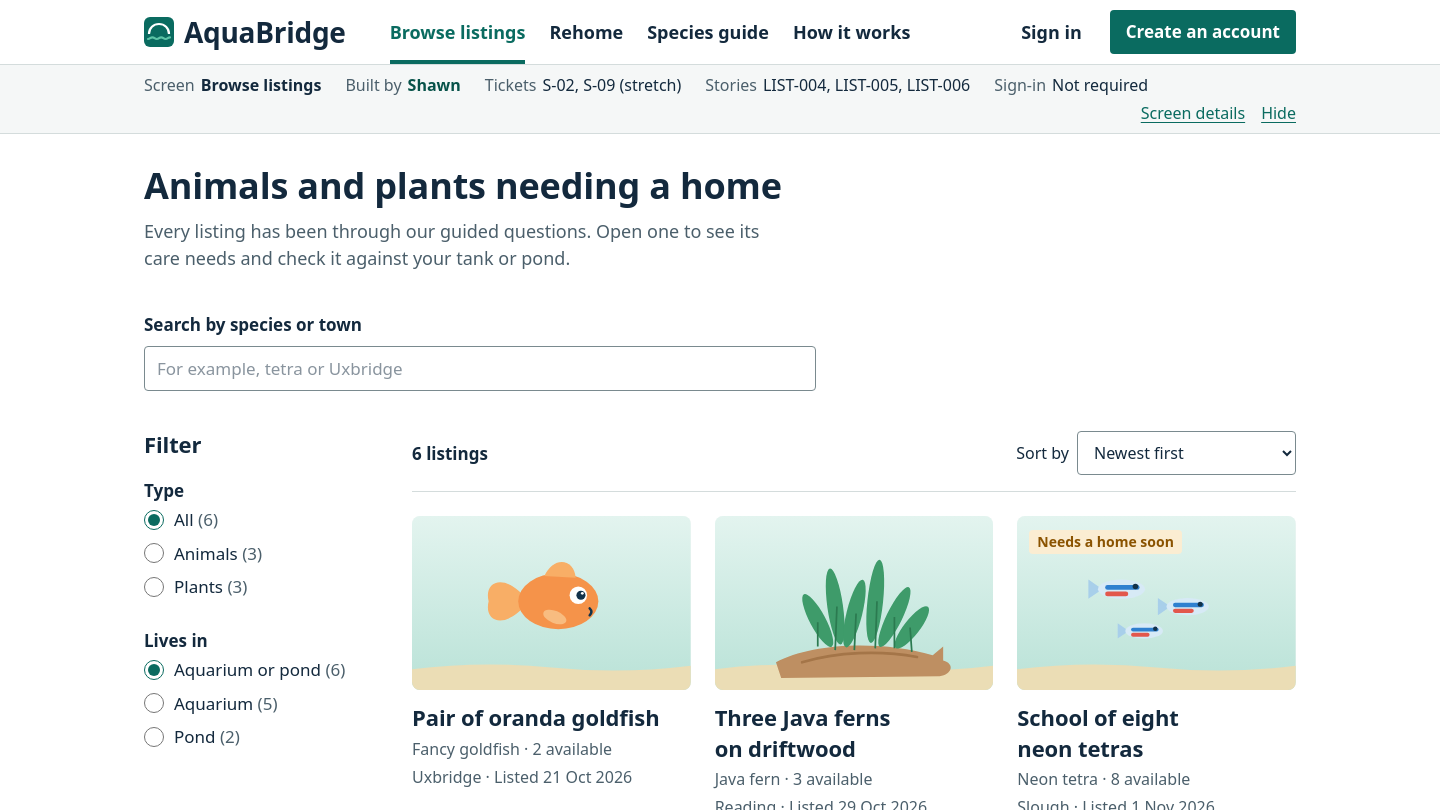
Test: App › browse shows only active listings and filters them
The width and height of the screenshot is (1440, 810).
Expected: the text "6 listings" is shown, left=412, top=441, right=488, bottom=466
What coordinates should you click on to do the following:
click the radio button labelled "Plants (3)"
I would click on:
 (154, 587)
Its box is left=144, top=577, right=164, bottom=597.
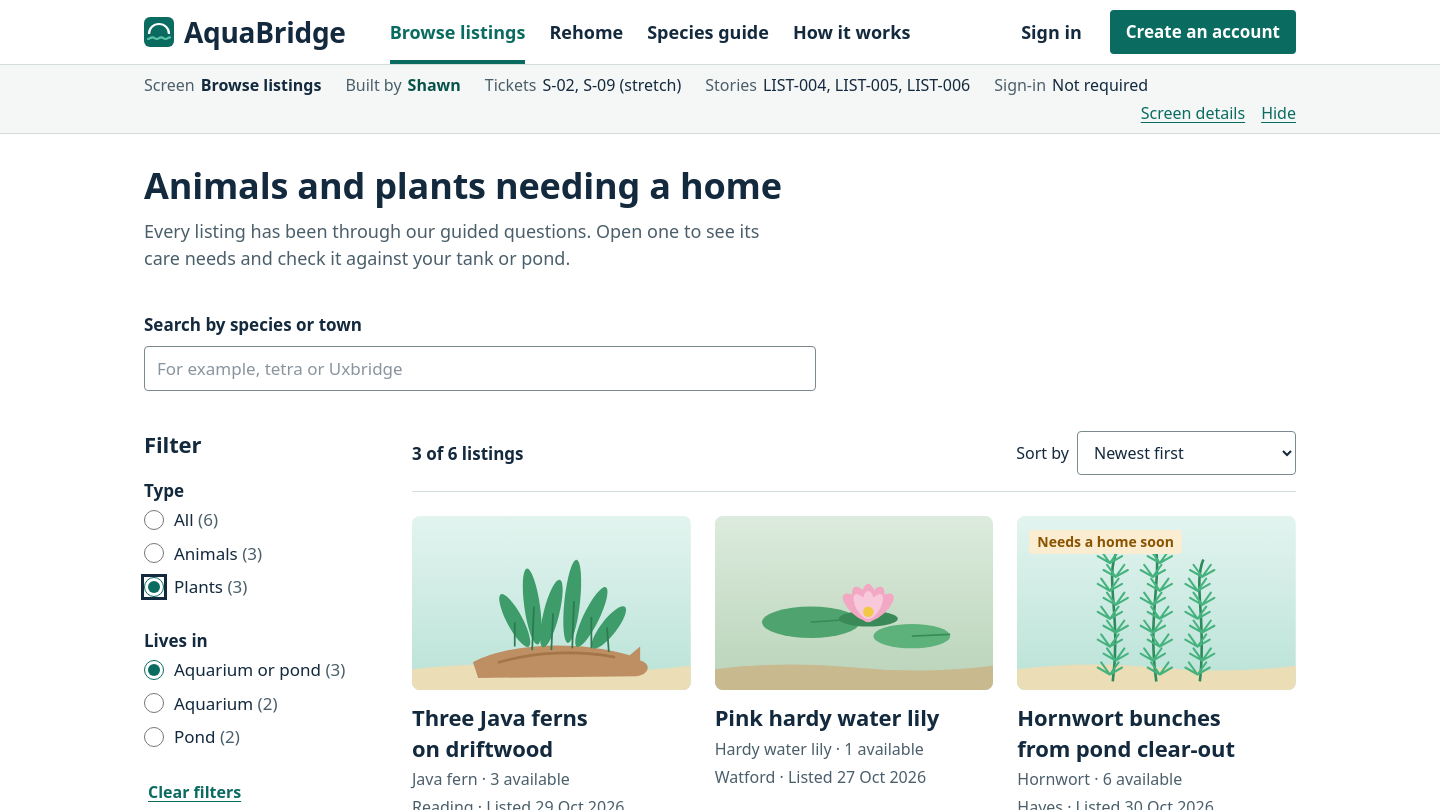
Expected: the text "3 of 6 listings" is shown, left=412, top=441, right=524, bottom=466
